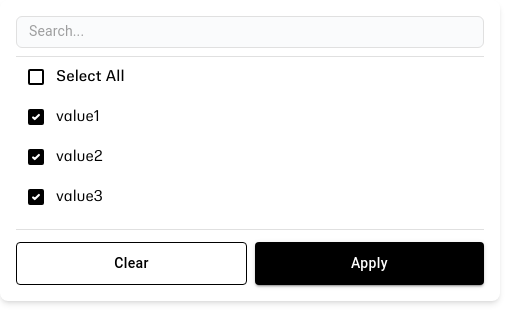
Test: MultiFilter › should show "No matches found" when search has no results
The image size is (518, 322).
In the field with placeholder "Search...": (250, 31) left=29, top=21, right=471, bottom=41, type "nonexistent"
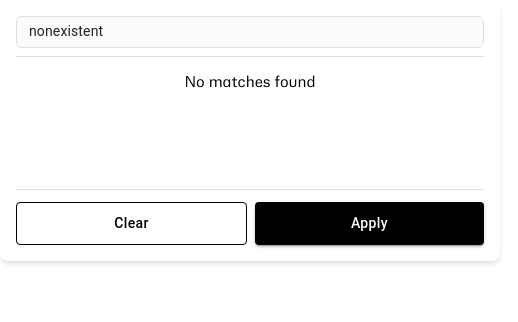
Now the text "No matches found" is shown, box left=184, top=76, right=316, bottom=90
